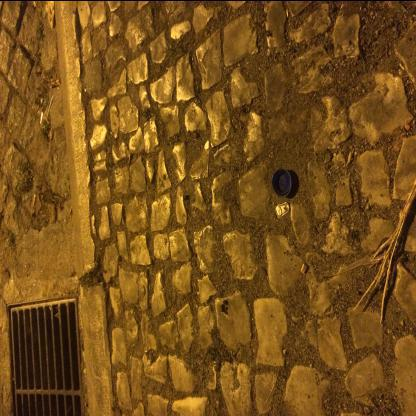plastik: (274, 169, 294, 198)
